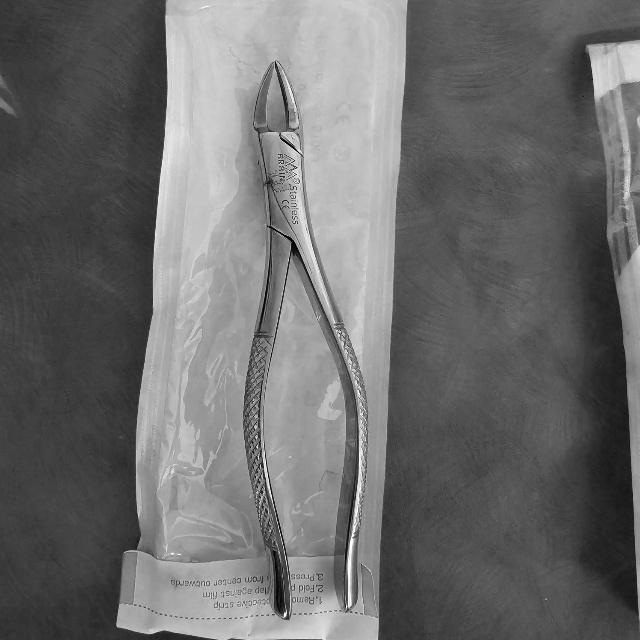forceps: (243, 63, 368, 622)
